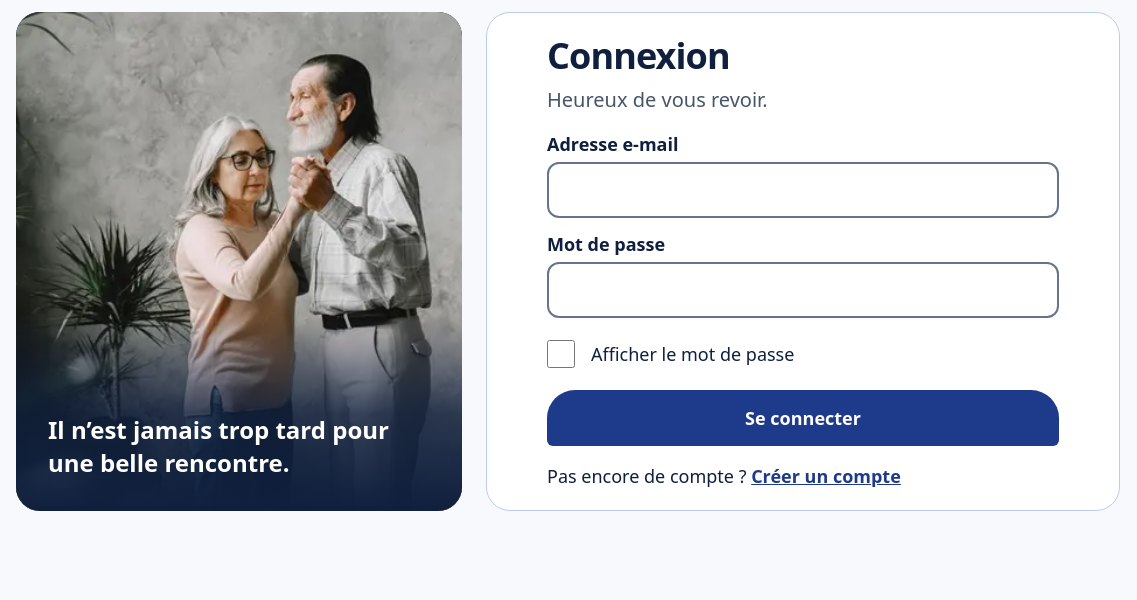
Test: LoginView › affiche un message générique sur 401
The width and height of the screenshot is (1137, 600).
Type "a@b.fr" into the field with id "email".
click(803, 190); type("a@b.fr")  # box [547,162,1059,218]
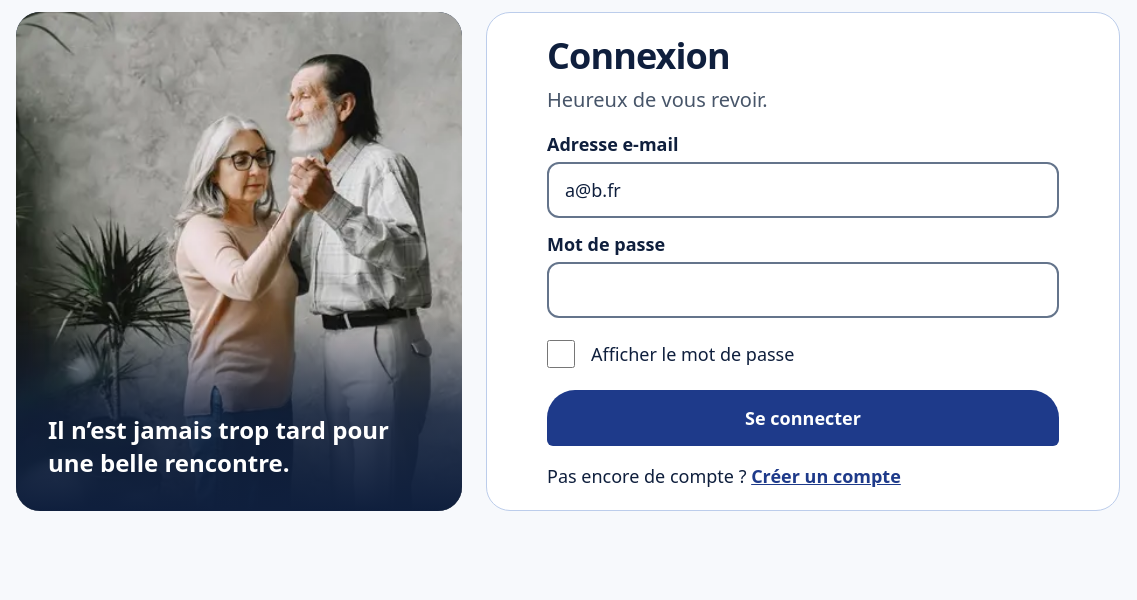
Type "mauvais" into the password field labelled "Mot de passe".
click(803, 290); type("mauvais")  # box [547,262,1059,318]
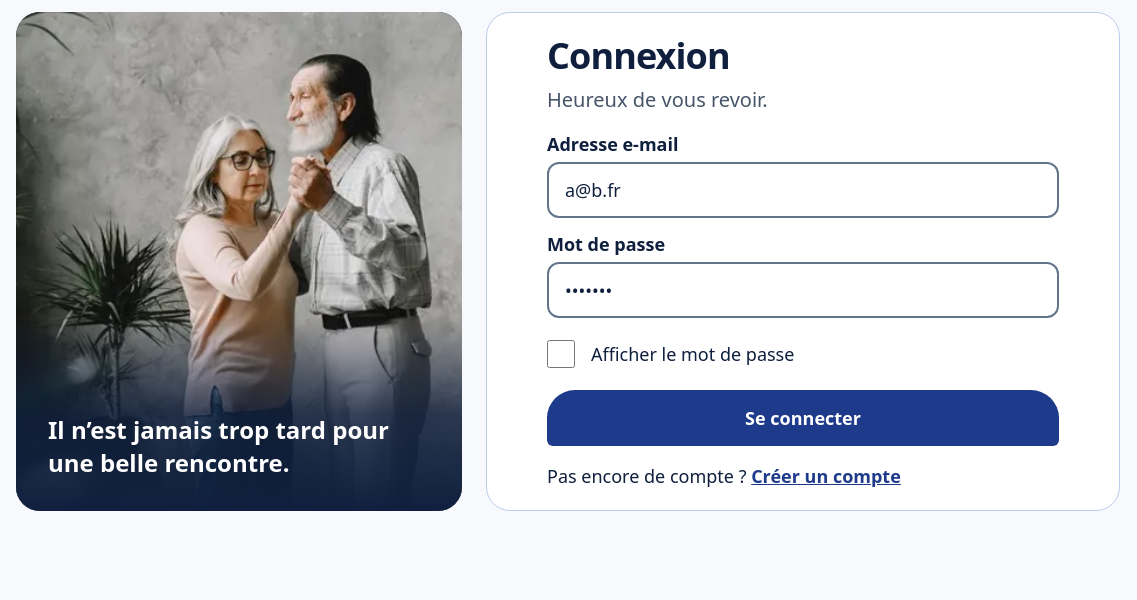
Submit the form, box [547,130,1059,446]
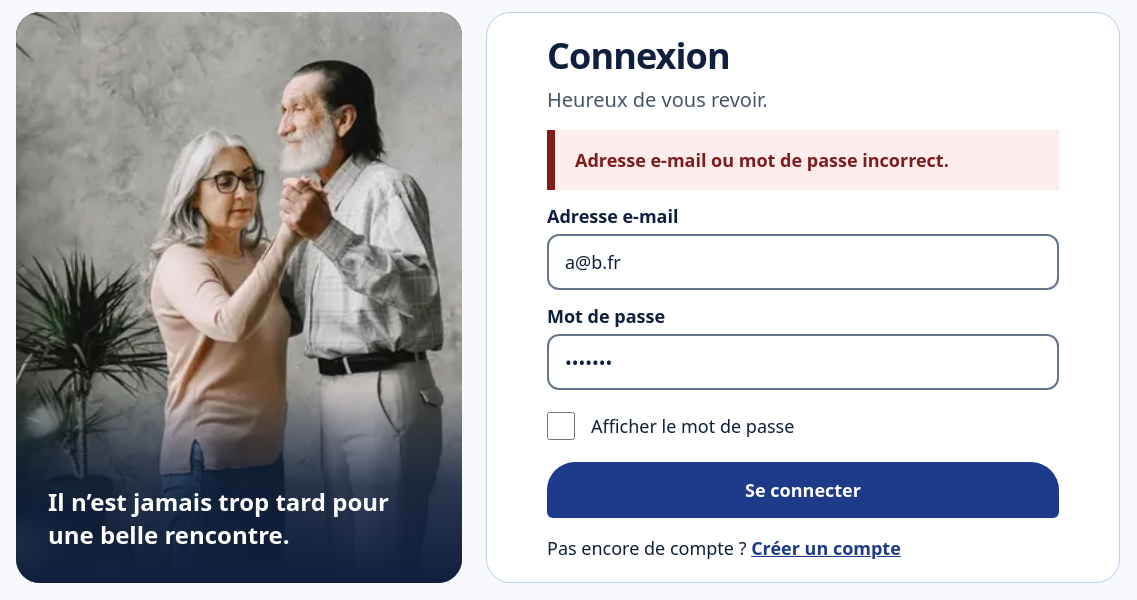
Now the message "Adresse e-mail ou mot de passe incorrect." is shown, box [547,130,1059,190]
